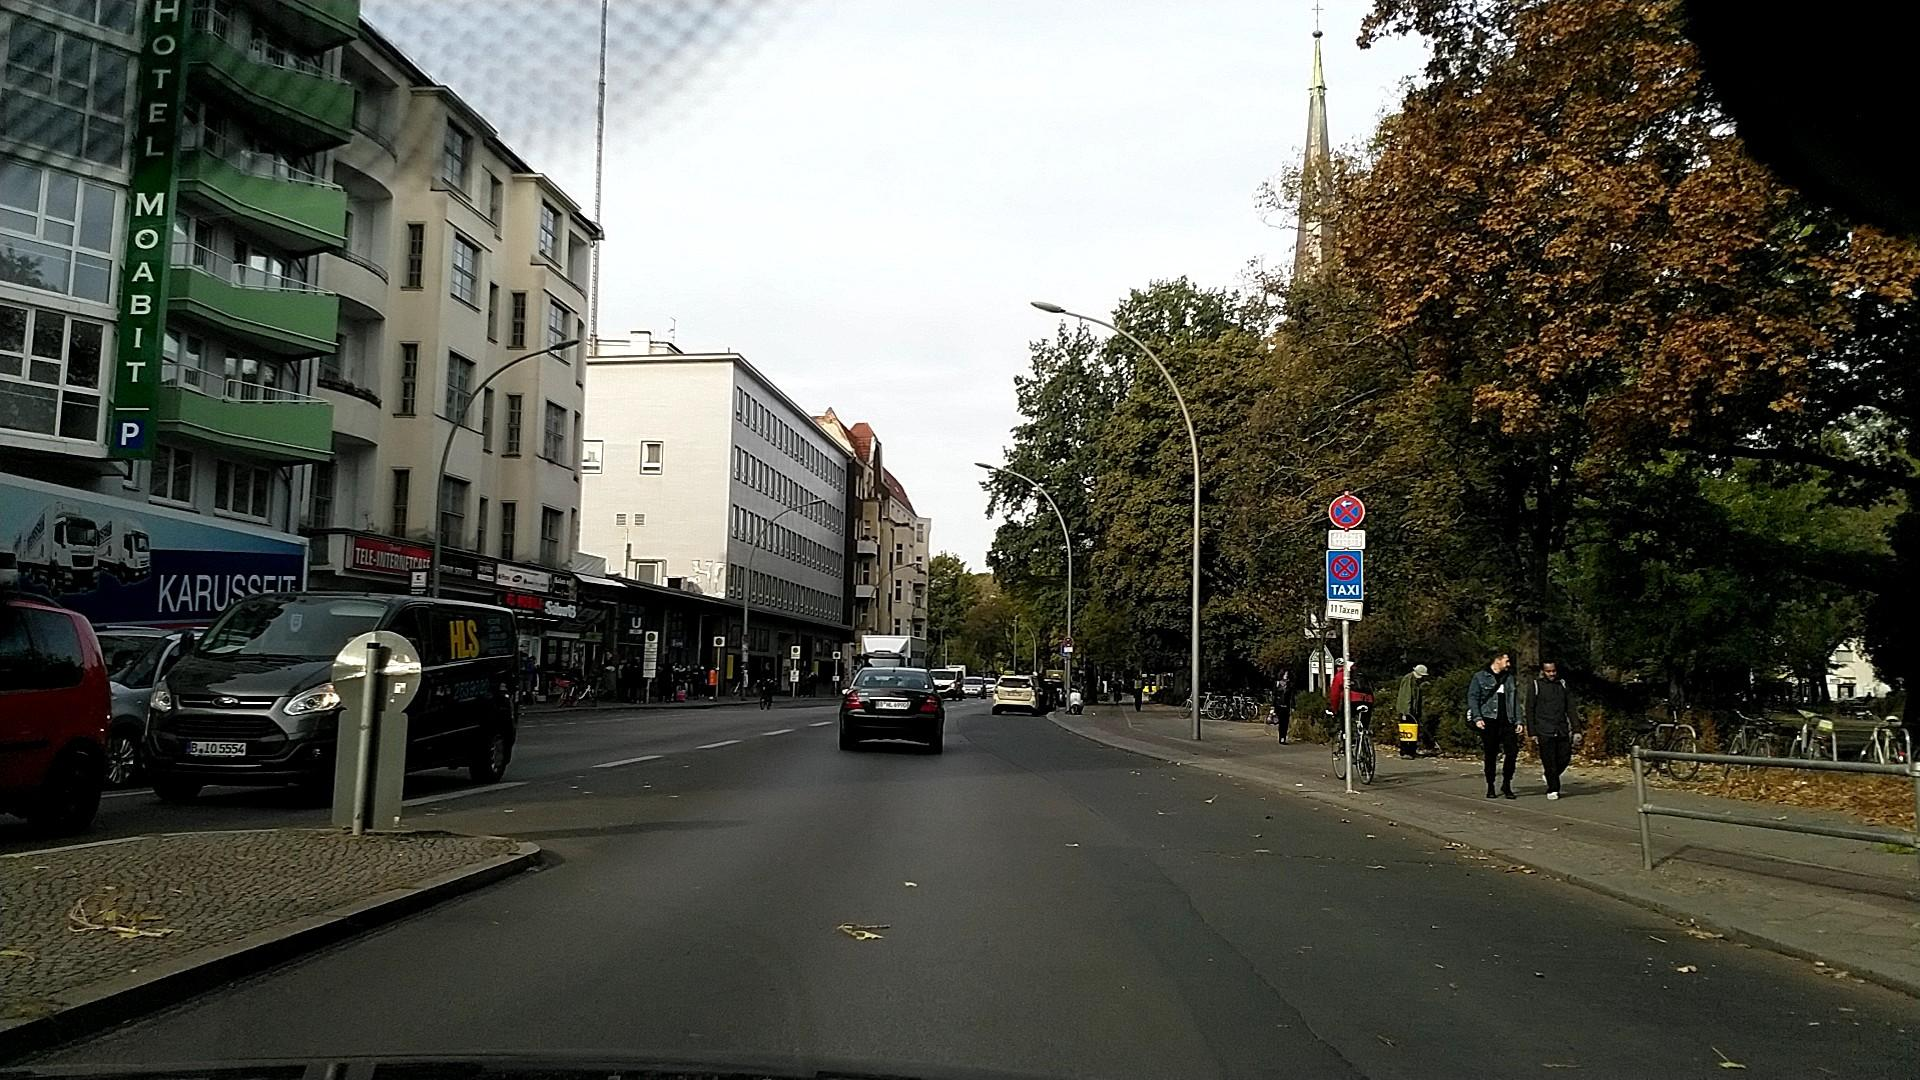Human face: (1492, 652, 1510, 674), (1540, 660, 1557, 681), (1280, 669, 1291, 681)
Vehicle registration plate: (185, 740, 246, 757), (872, 699, 910, 710)
